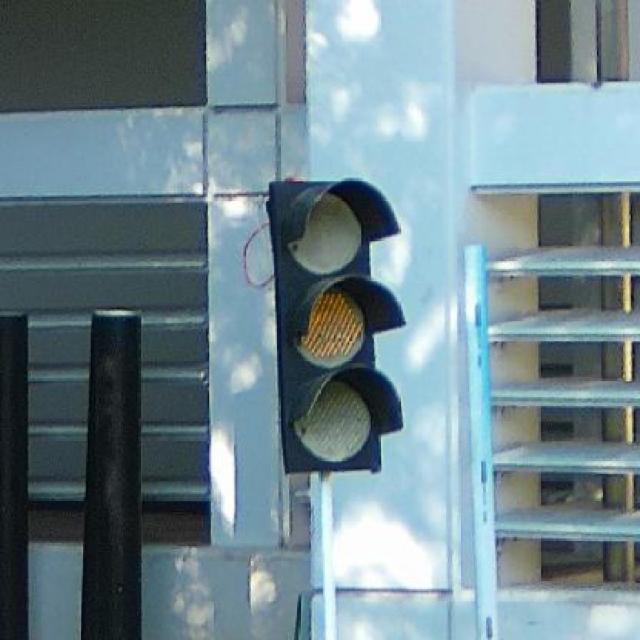yellow: (264, 169, 407, 482)
